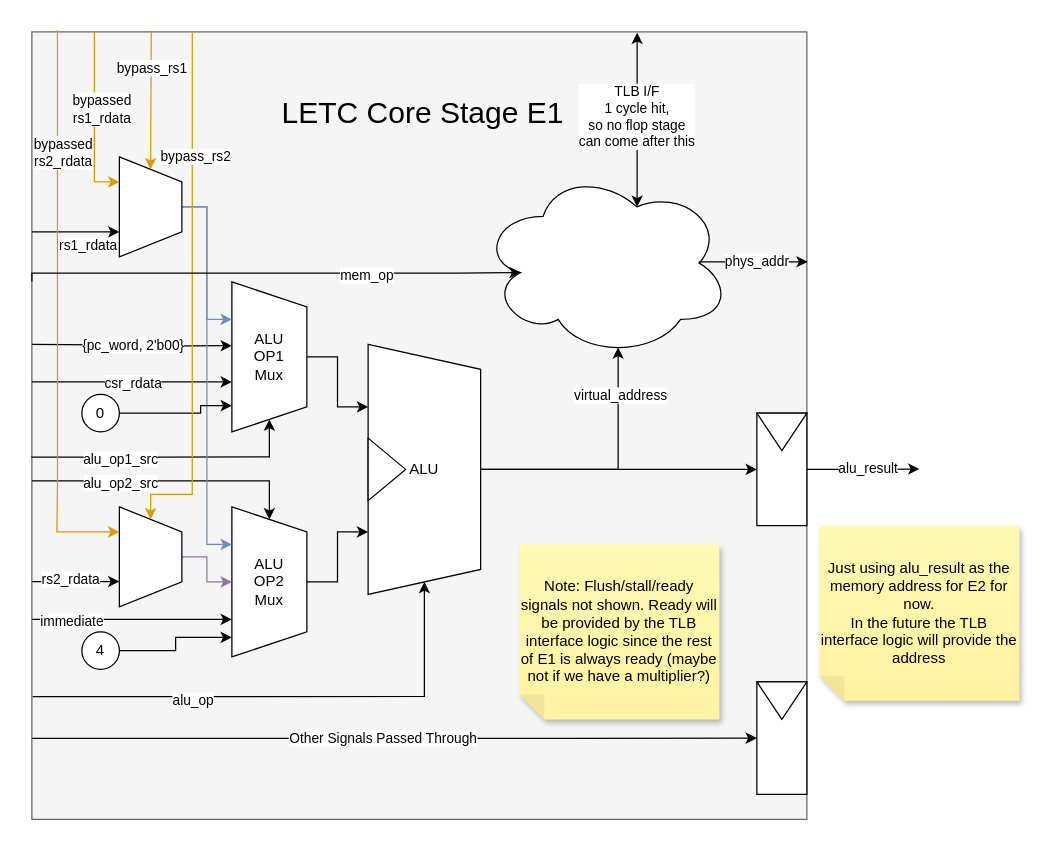
Some shapes in this 1049 by 843 pixel diagram are drawn without their labels. Here are the shapes that lost their labels. From the top down, the centre of each, then its label:
At point (150, 206): "rs1 bypass mux".
At point (605, 262): "TLB Interface Logic".
At point (150, 556): "rs2 bypass mux".
